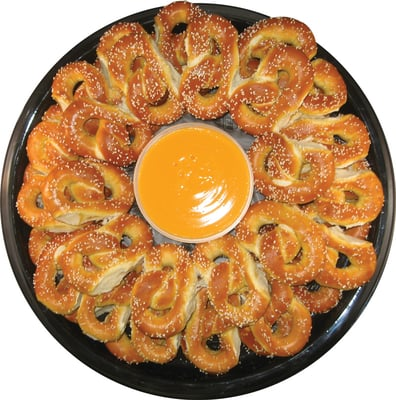sushi: (132, 122, 254, 245)
